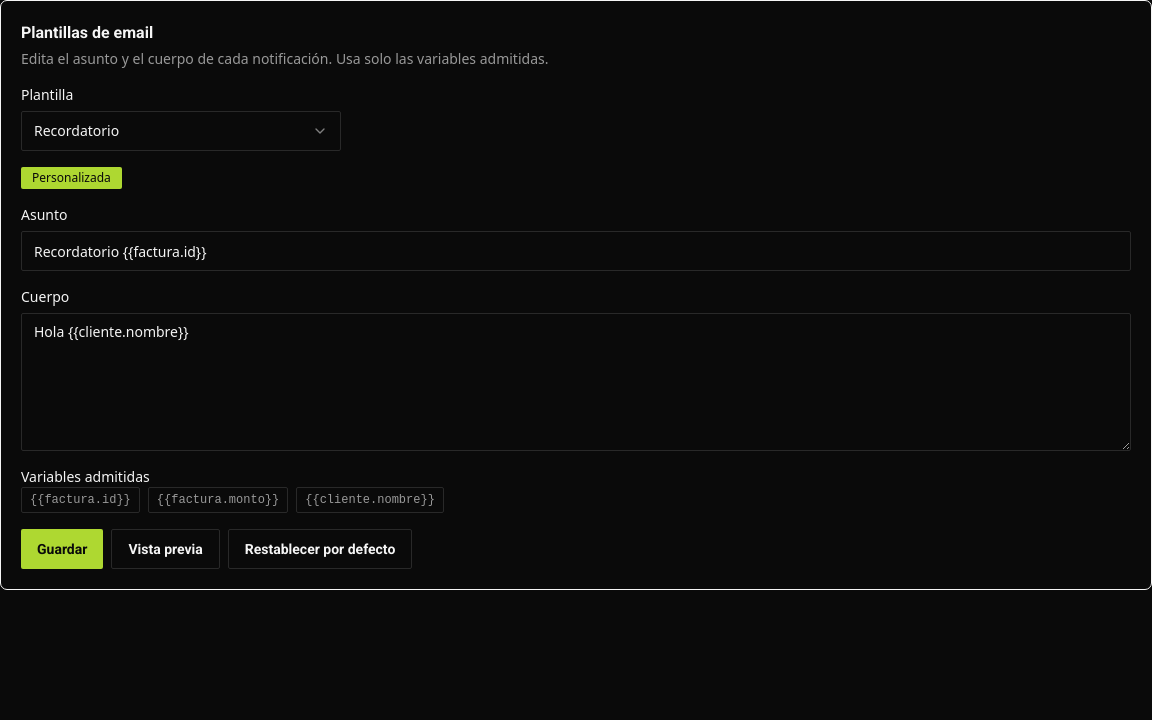
Test: EmailTemplatesSection › rechaza guardar con asunto vacío
Clear the field labelled "Asunto" at (576, 251), box [21,231,1131,271]
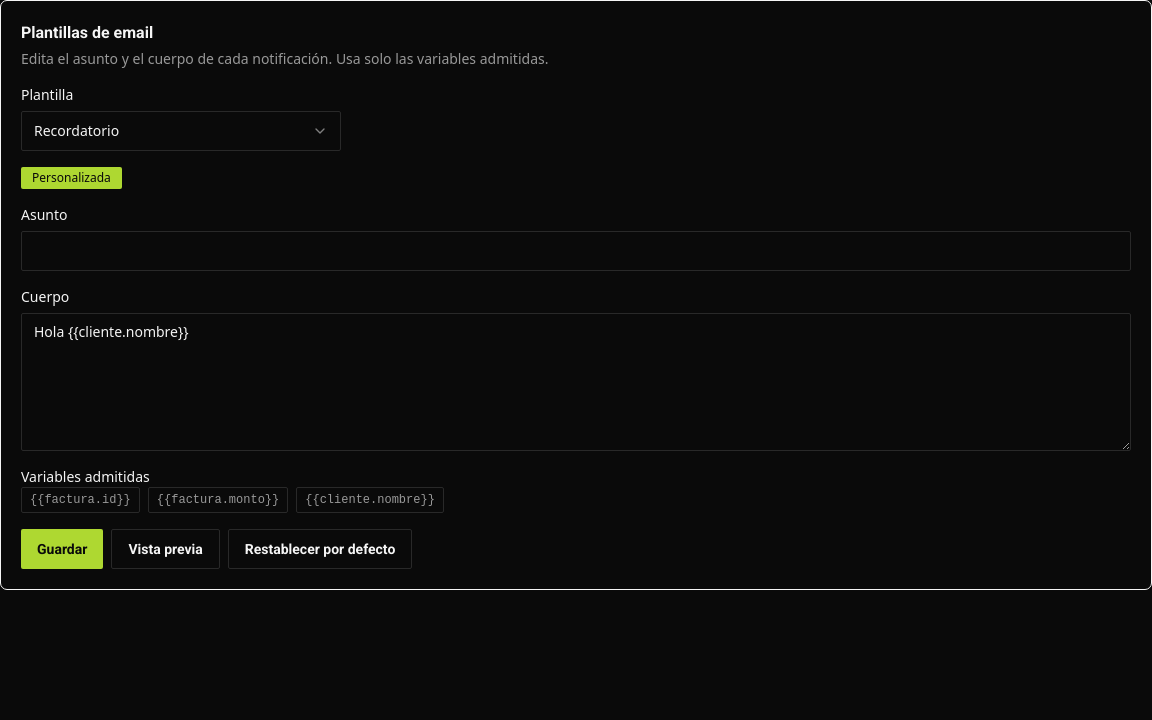
Click the button "Guardar" at (62, 549), box [21,529,103,569]
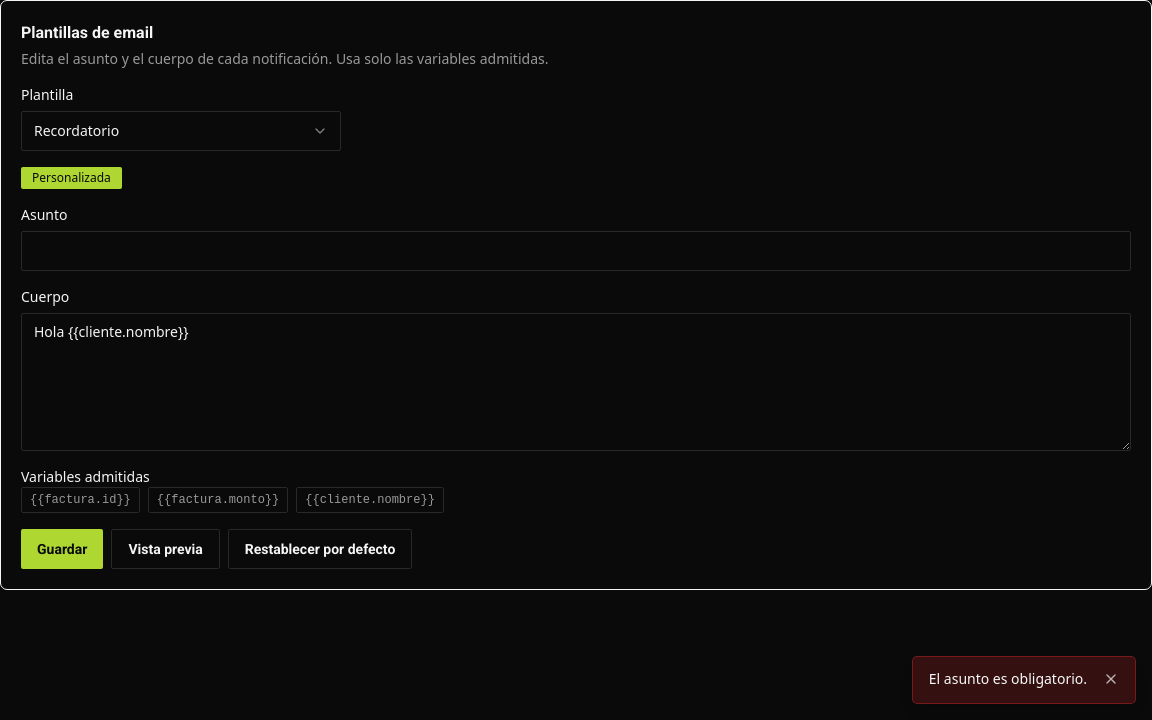
Result: the text "El asunto es obligatorio." is shown at [929,669,1087,688]
